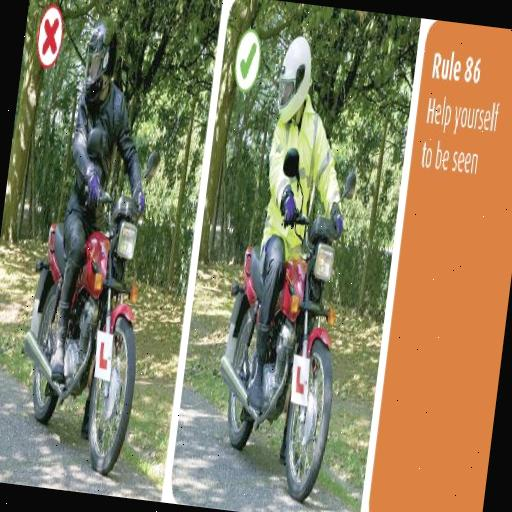helmet: (214, 10, 380, 500), (17, 0, 178, 470)
